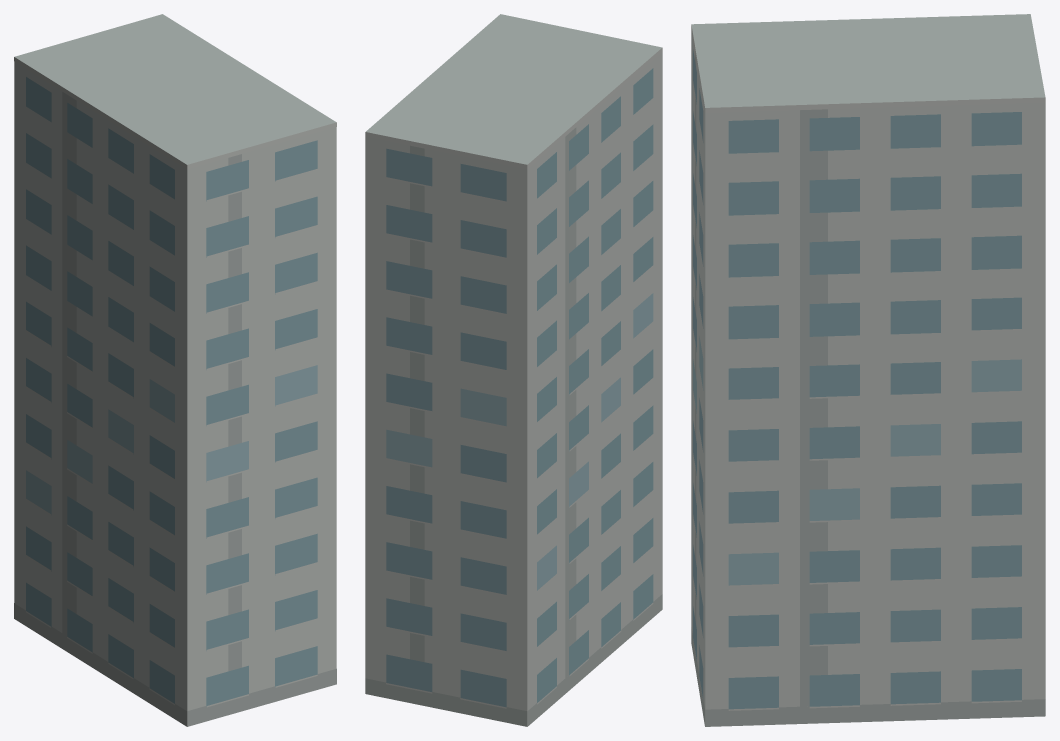
Rendered from survey-upis-32727580.glb.
3 renders of one model, left to right at view 1: azimuth 30°, elevation 25°; view 2: azimuth 150°, elevation 25°; view 3: azimuth 270°, elevation 25°, orthographic. The views are drawn at different scales.
Parts seen in each view (by area): view 1: survey-upis-32727580.tmp; view 2: survey-upis-32727580.tmp; view 3: survey-upis-32727580.tmp.
Part boxes in pixels (<box>): survey-upis-32727580.tmp: <box>14,14,336,726</box>; survey-upis-32727580.tmp: <box>365,14,662,726</box>; survey-upis-32727580.tmp: <box>691,14,1045,726</box>.
Size of the model in its own units: 9.55 by 29.3 by 15.2.
